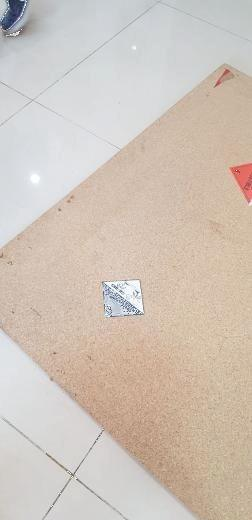corrosive: (104, 280, 142, 318)
